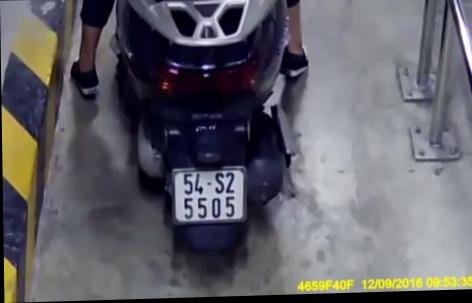LP: (170, 163, 251, 229)
